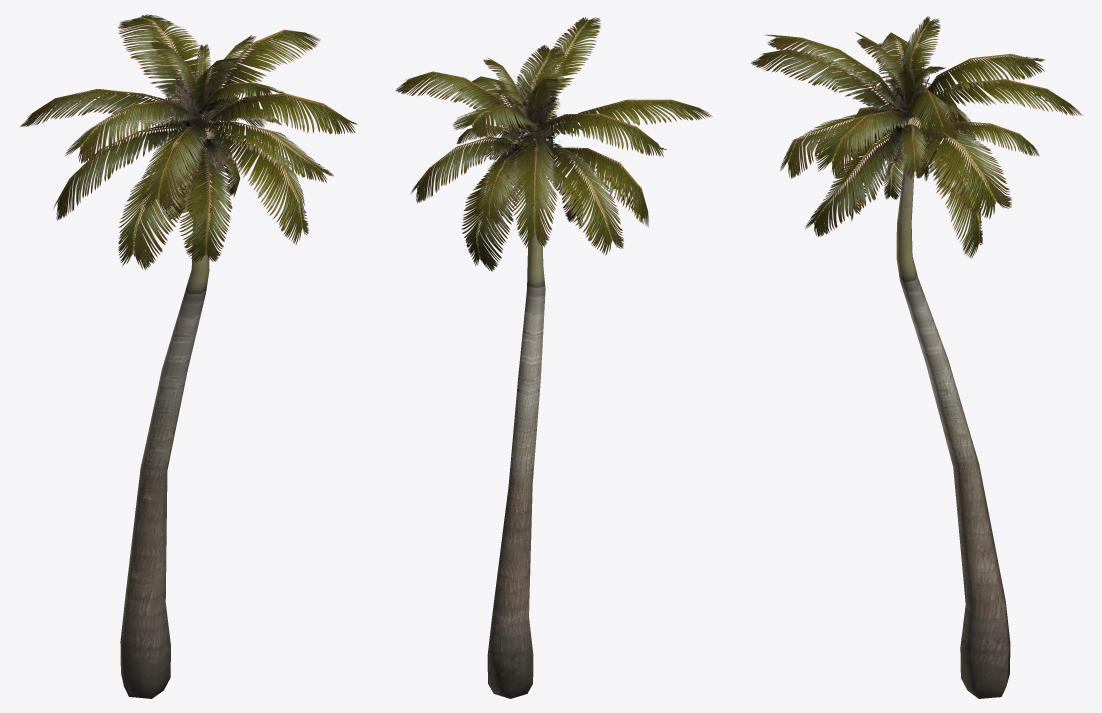
The model's file is Palm1_VARCol1.glb.
3 renders of one model, left to right at view 1: azimuth 30°, elevation 25°; view 2: azimuth 150°, elevation 25°; view 3: azimuth 270°, elevation 25°, orthographic. The views are drawn at different scales.
Parts seen in each view (by area): view 1: Palm1_VARCol1; view 2: Palm1_VARCol1; view 3: Palm1_VARCol1.
Part boxes in pixels (x1,y1,x2,y2): Palm1_VARCol1: (20, 14, 357, 698); Palm1_VARCol1: (395, 17, 712, 698); Palm1_VARCol1: (750, 16, 1082, 698).
Bounding box in the file's own units: 2.89 × 6.62 × 3.09.
1 material, 1 textured.
